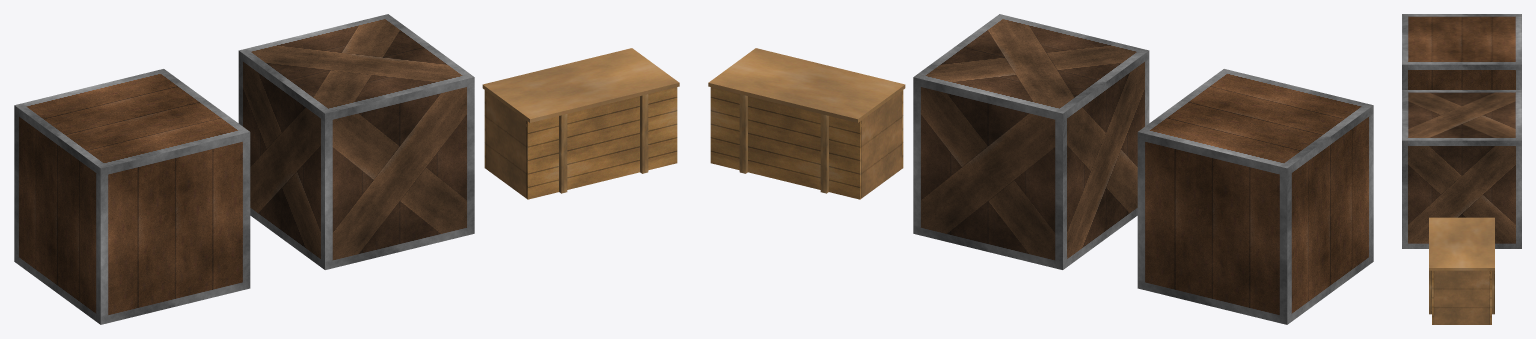
File: wooden crate.obj
3 renders of one model, left to right at view 1: azimuth 30°, elevation 25°; view 2: azimuth 150°, elevation 25°; view 3: azimuth 270°, elevation 25°, orthographic. The views are drawn at different scales.
Parts seen in each view (by area): view 1: Cube_Cube.001, Cube.001_Cube.002, Cube.002_Cube; view 2: Cube_Cube.001, Cube.001_Cube.002, Cube.002_Cube; view 3: Cube.001_Cube.002, Cube_Cube.001, Cube.002_Cube.
Boxes of the visible parts, x1,y1,x2,y2 form: Cube_Cube.001: (14, 69, 250, 324); Cube.001_Cube.002: (238, 14, 474, 269); Cube.002_Cube: (482, 48, 679, 199); Cube_Cube.001: (1137, 69, 1373, 324); Cube.001_Cube.002: (913, 14, 1149, 269); Cube.002_Cube: (708, 48, 905, 199); Cube.001_Cube.002: (1402, 90, 1521, 248); Cube_Cube.001: (1402, 14, 1521, 89); Cube.002_Cube: (1429, 217, 1494, 324).
Size of what is drawn, in the model's own units: 8 by 2 by 2.
4 materials, 4 textured.
